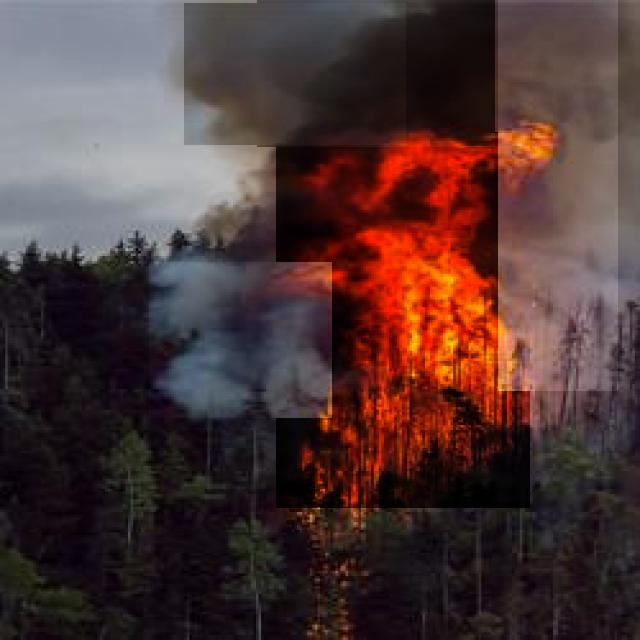Fire: (276, 132, 530, 508)
Smoke: (498, 0, 618, 391), (257, 0, 495, 147), (184, 3, 406, 145), (149, 262, 332, 418)
